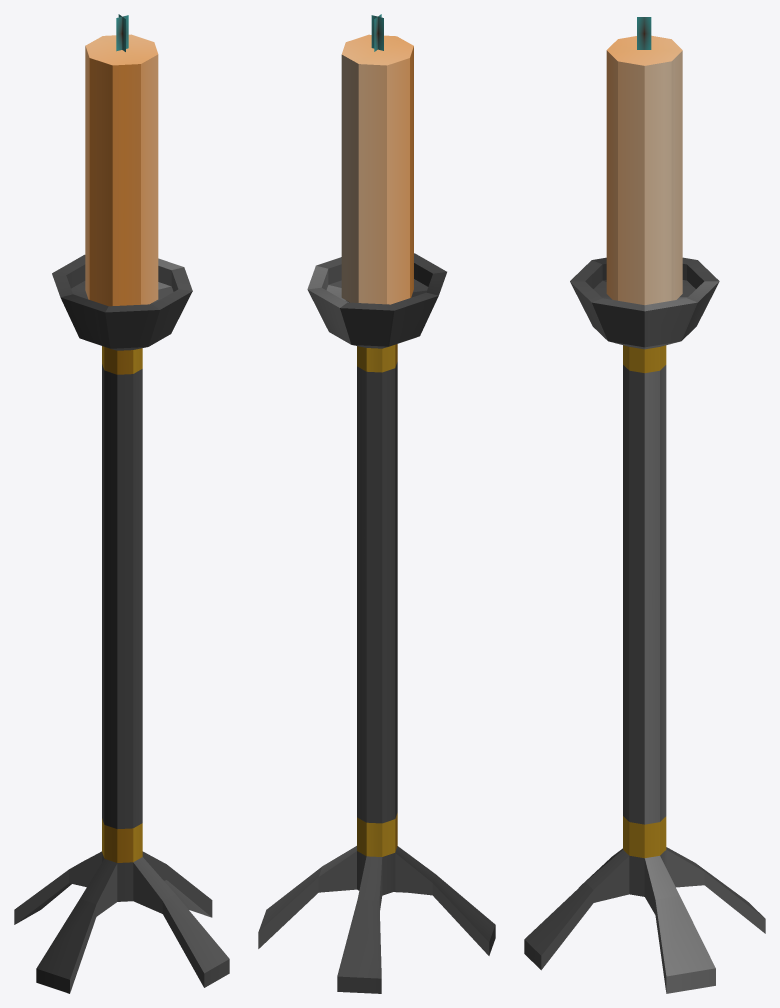
File: Candle_336x14.obj
3 renders of one model, left to right at view 1: azimuth 30°, elevation 25°; view 2: azimuth 150°, elevation 25°; view 3: azimuth 270°, elevation 25°, orthographic.
Visible parts, largest first — view 1: Candle_336x14; view 2: Candle_336x14; view 3: Candle_336x14.
Boxes of the visible parts, x1=… form: Candle_336x14: x1=14, y1=14, x2=229, y2=993; Candle_336x14: x1=258, y1=14, x2=495, y2=993; Candle_336x14: x1=524, y1=17, x2=765, y2=993.
Size of the model in its own units: 0.4538 by 2.02 by 0.4768.
